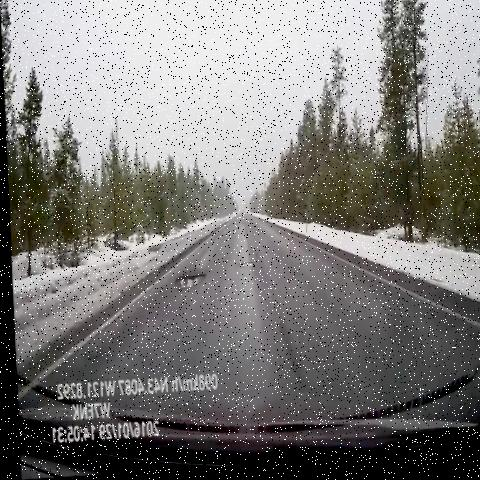pothole: (165, 267, 207, 301), (231, 253, 255, 280)
